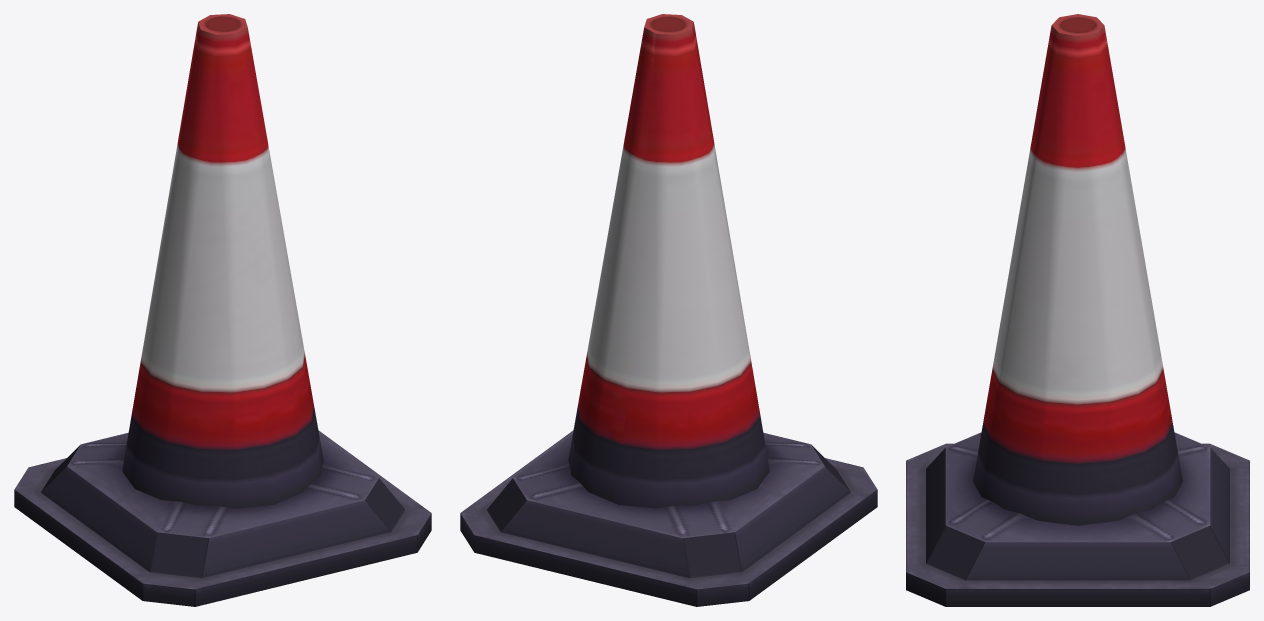
The model's file is TrafficCone.FBX.
3 renders of one model, left to right at view 1: azimuth 30°, elevation 25°; view 2: azimuth 150°, elevation 25°; view 3: azimuth 270°, elevation 25°, orthographic. The views are drawn at different scales.
Visible parts, largest first — view 1: TrafficCone70; view 2: TrafficCone70; view 3: TrafficCone70.
Part boxes in pixels (x1,y1,x2,y2): TrafficCone70: (14,14,431,606); TrafficCone70: (460,14,877,606); TrafficCone70: (906,14,1249,606).
Bounding box in the file's own units: 20.47 × 20.47 × 33.46.
